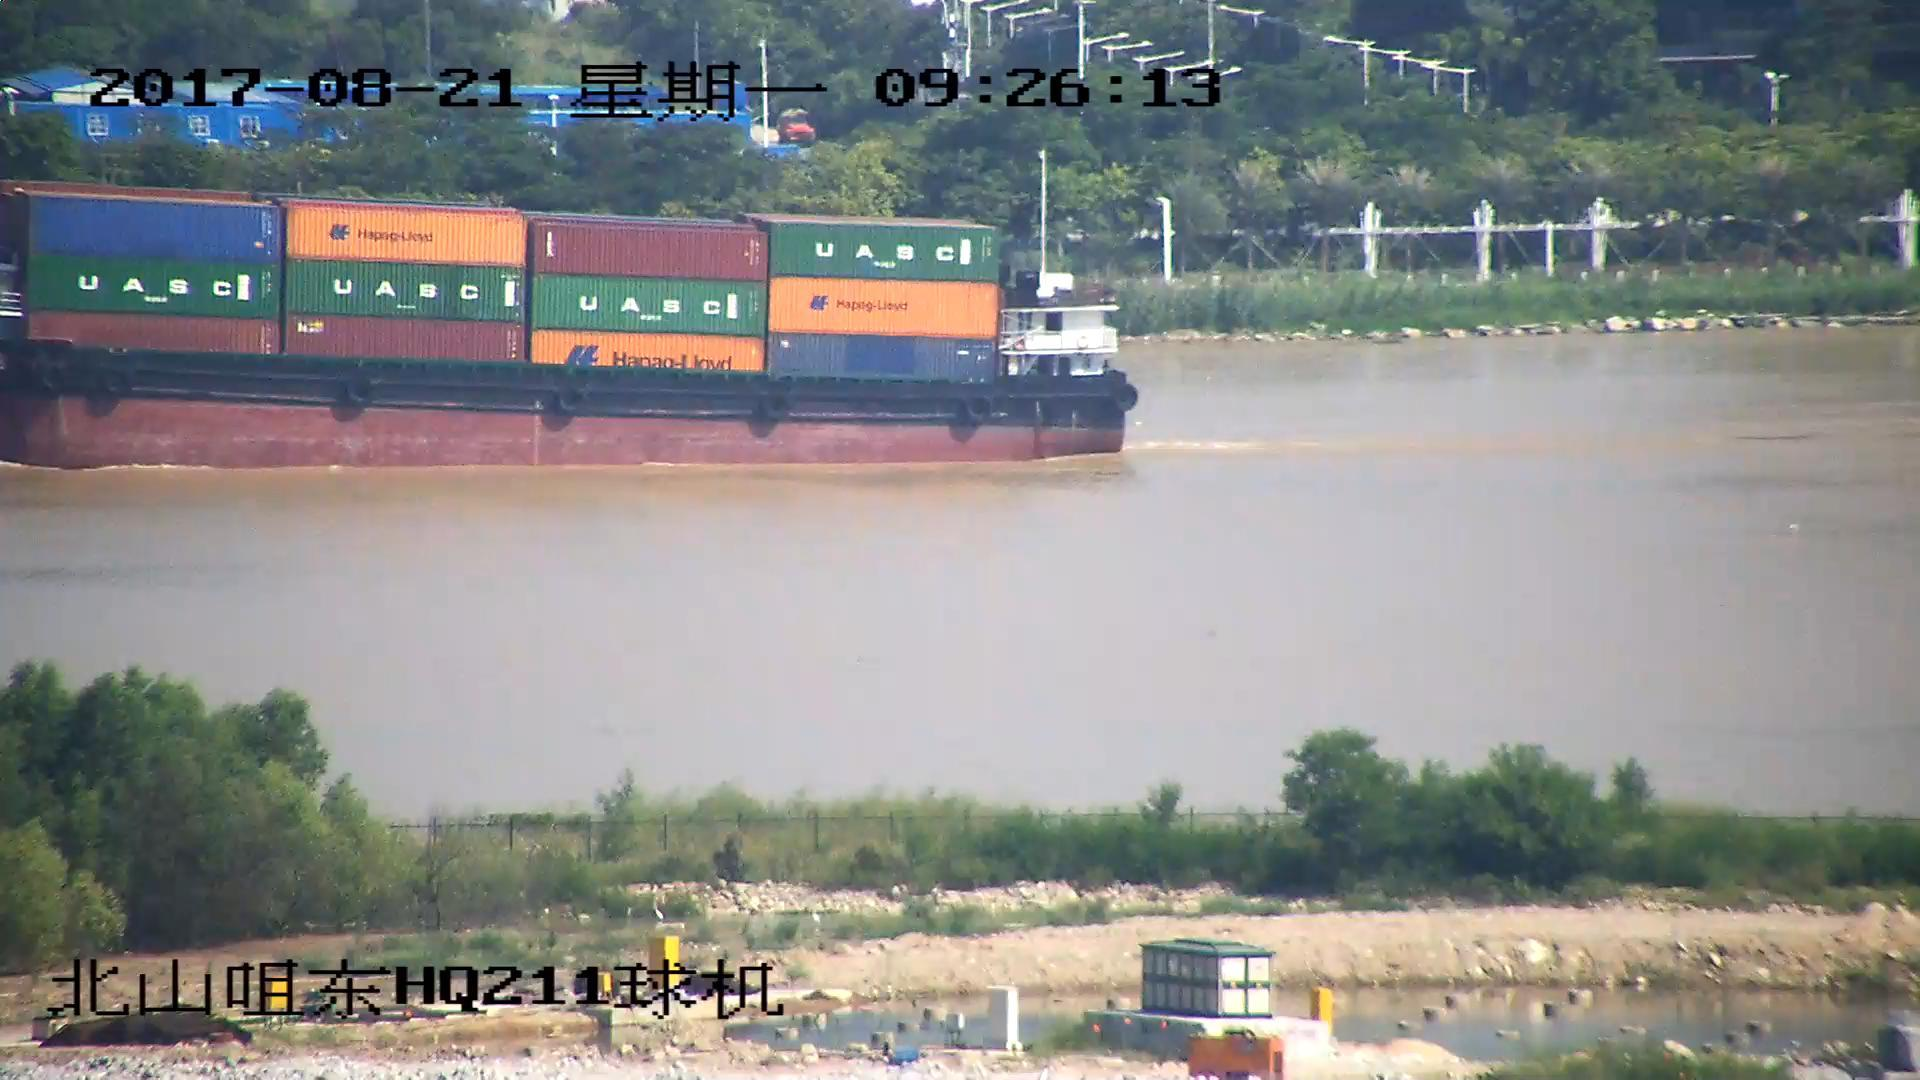Ship: (3, 156, 1139, 465)
